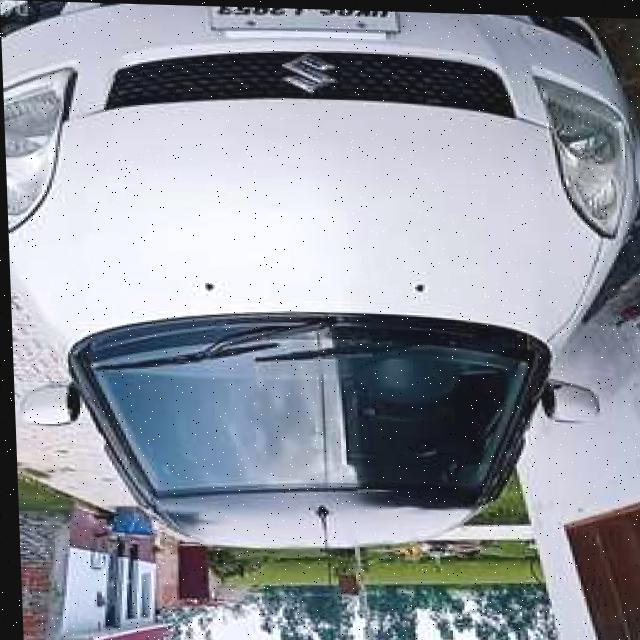plate: (208, 5, 403, 35)
